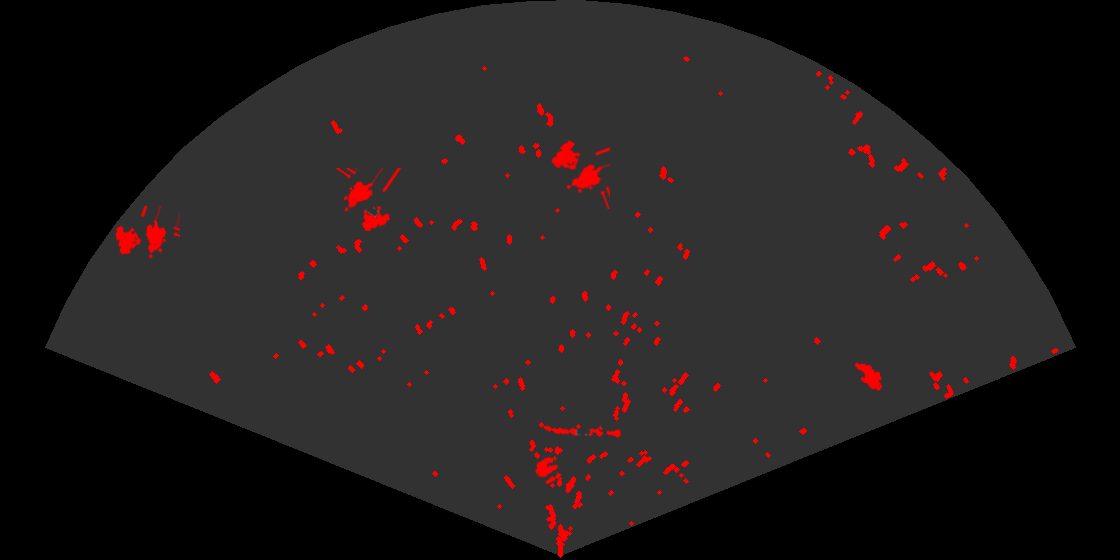AUV: (853, 361, 884, 393)
ball: (534, 455, 563, 486)
cage: (334, 168, 403, 233), (550, 138, 610, 209), (114, 206, 180, 260)
chain: (541, 424, 621, 440)
